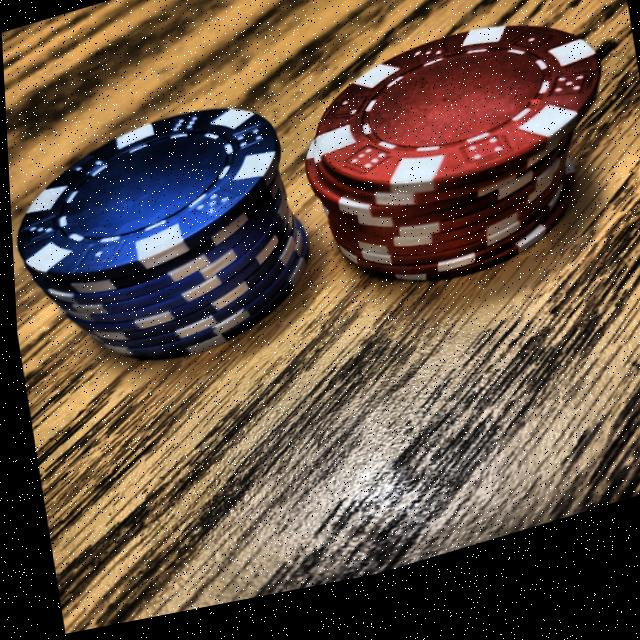Chip: (275, 0, 640, 344), (5, 71, 347, 411)
